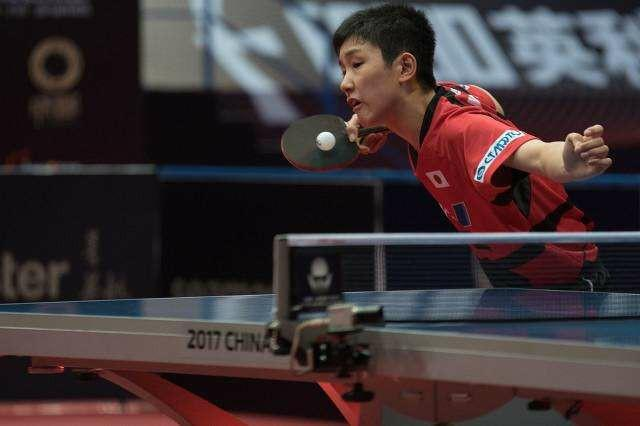ball: (313, 128, 336, 151)
